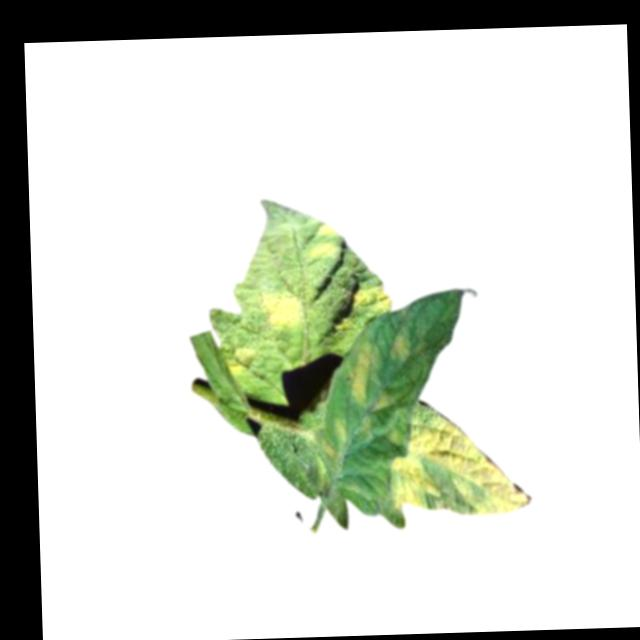Leaf_Mold: (388, 411, 532, 518), (261, 288, 310, 333), (349, 339, 378, 406), (307, 219, 343, 262), (355, 282, 392, 317), (222, 342, 256, 378), (389, 327, 411, 365)
